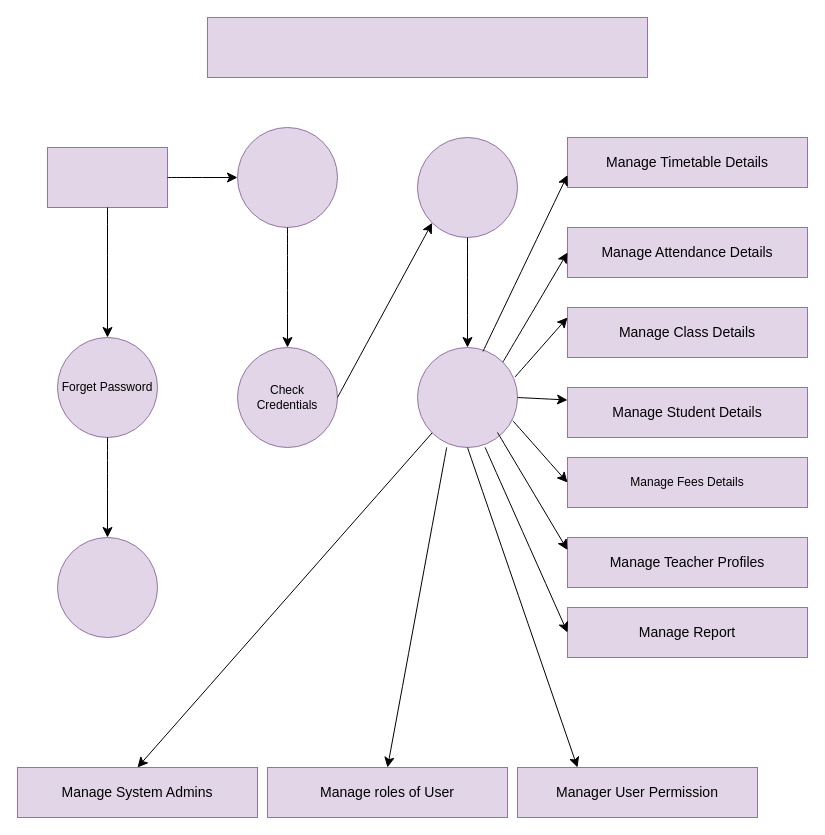
The diagram is 825 pixels wide and 835 high, and some of its shapes have lost their labels. The shapes that lost their labels are listed below. From the top down, each one's centre as x and y in pixels, then its label:
At [427,47]: "Student Information System".
At [107,177]: "Admin".
At [287,177]: "Login to System".
At [467,187]: "Check Roles of Access".
At [467,397]: "Ma nage Modules".
At [107,587]: "Send Email to User".
